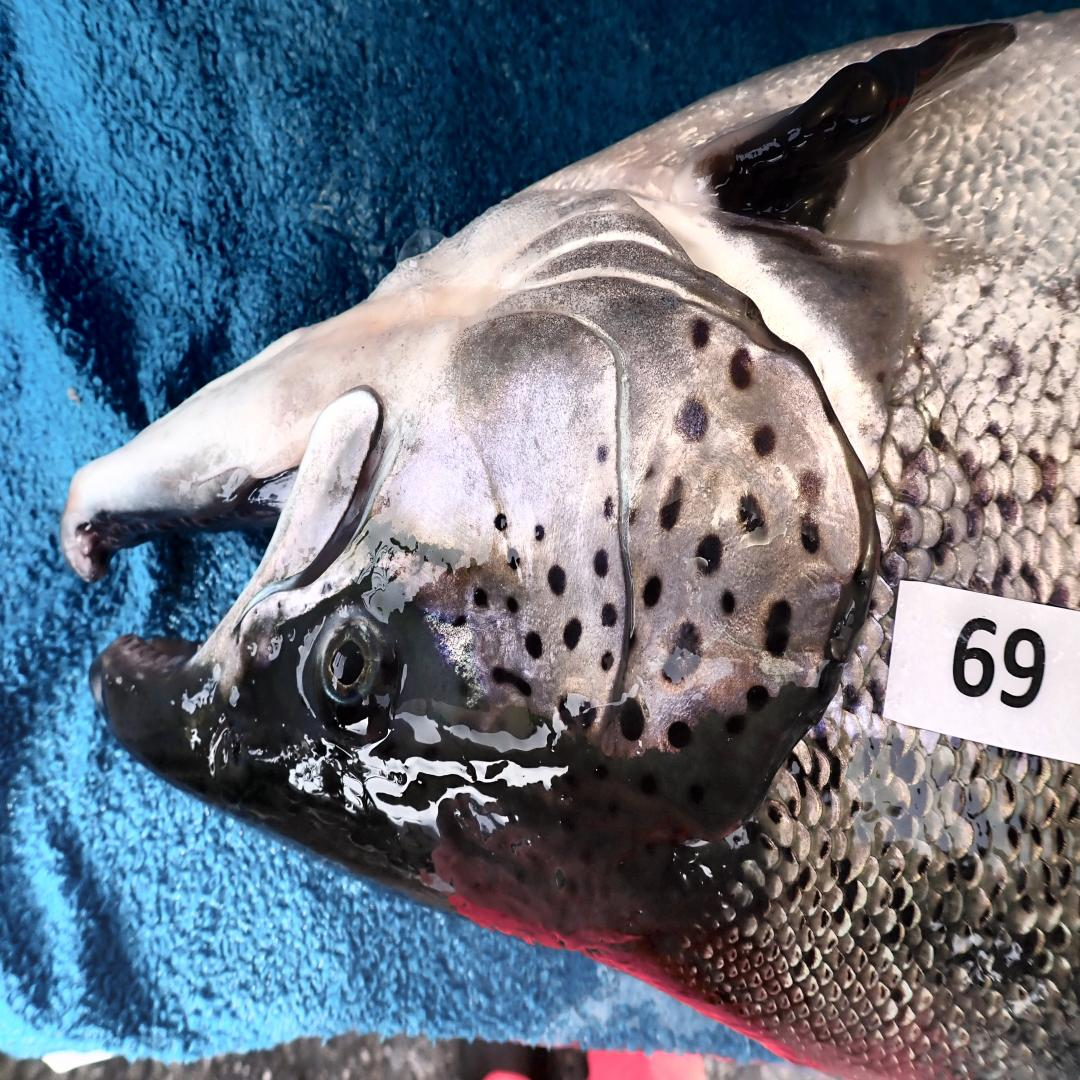spot: (662, 619, 701, 685), (736, 492, 769, 544), (675, 399, 709, 442), (765, 599, 791, 655), (658, 476, 682, 532), (491, 667, 532, 698), (558, 696, 595, 729), (697, 535, 724, 575), (620, 698, 645, 740), (730, 349, 753, 388), (751, 424, 776, 459), (799, 515, 820, 554), (799, 469, 822, 504), (747, 683, 770, 712), (669, 717, 690, 748), (643, 577, 662, 608), (563, 619, 582, 650), (691, 319, 709, 350), (548, 565, 565, 596), (593, 548, 608, 577), (525, 633, 542, 658), (601, 605, 618, 627), (506, 548, 521, 571), (721, 591, 734, 613), (601, 650, 614, 672), (597, 444, 610, 464), (475, 588, 487, 608), (506, 596, 519, 613), (494, 515, 506, 532), (605, 498, 613, 521), (643, 464, 653, 482), (534, 525, 545, 541), (452, 616, 466, 627), (628, 508, 635, 526)
